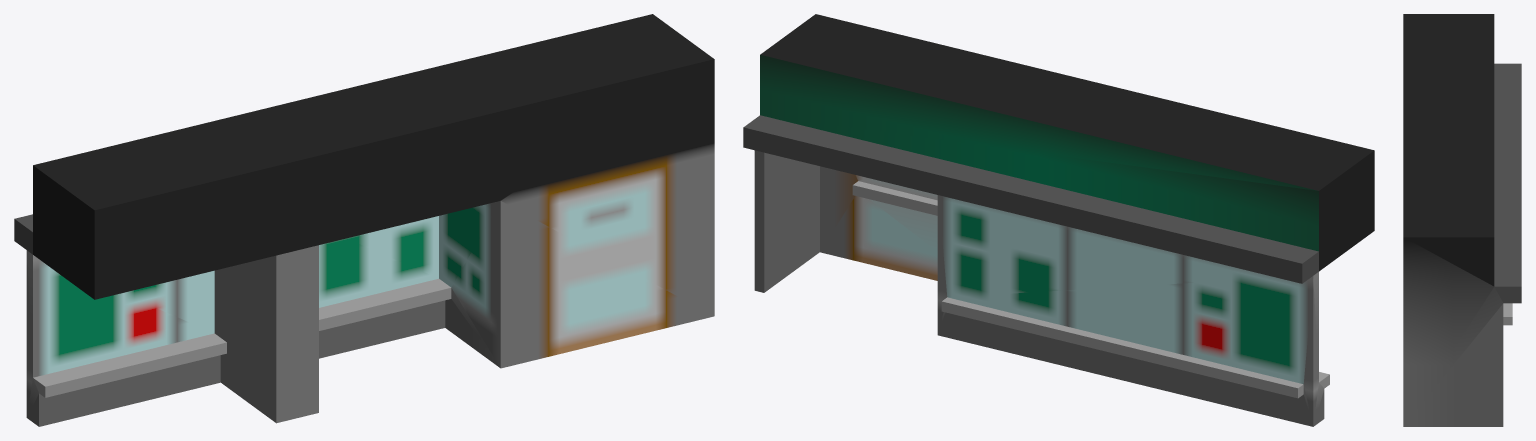
File: obj_store2.dae
3 views of the same model, side by side, from view 1: azimuth 30°, elevation 25°; view 2: azimuth 150°, elevation 25°; view 3: azimuth 270°, elevation 25° (orthographic). The views are drawn at different scales.
Parts seen in each view (by area): view 1: obj_store2; view 2: obj_store2; view 3: obj_store2.
Boxes of the visible parts, <box> form: obj_store2: <box>14,14,714,426</box>; obj_store2: <box>743,14,1374,426</box>; obj_store2: <box>1403,14,1521,426</box>.
Bounding box in the file's own units: 5.8 × 1.3 × 2.3.
Materials: 1 (1 with a texture image).
